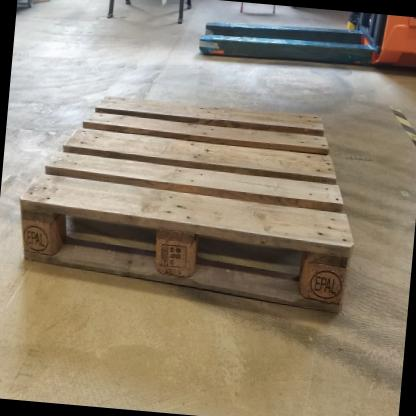BoxFace: (16, 91, 360, 318)
